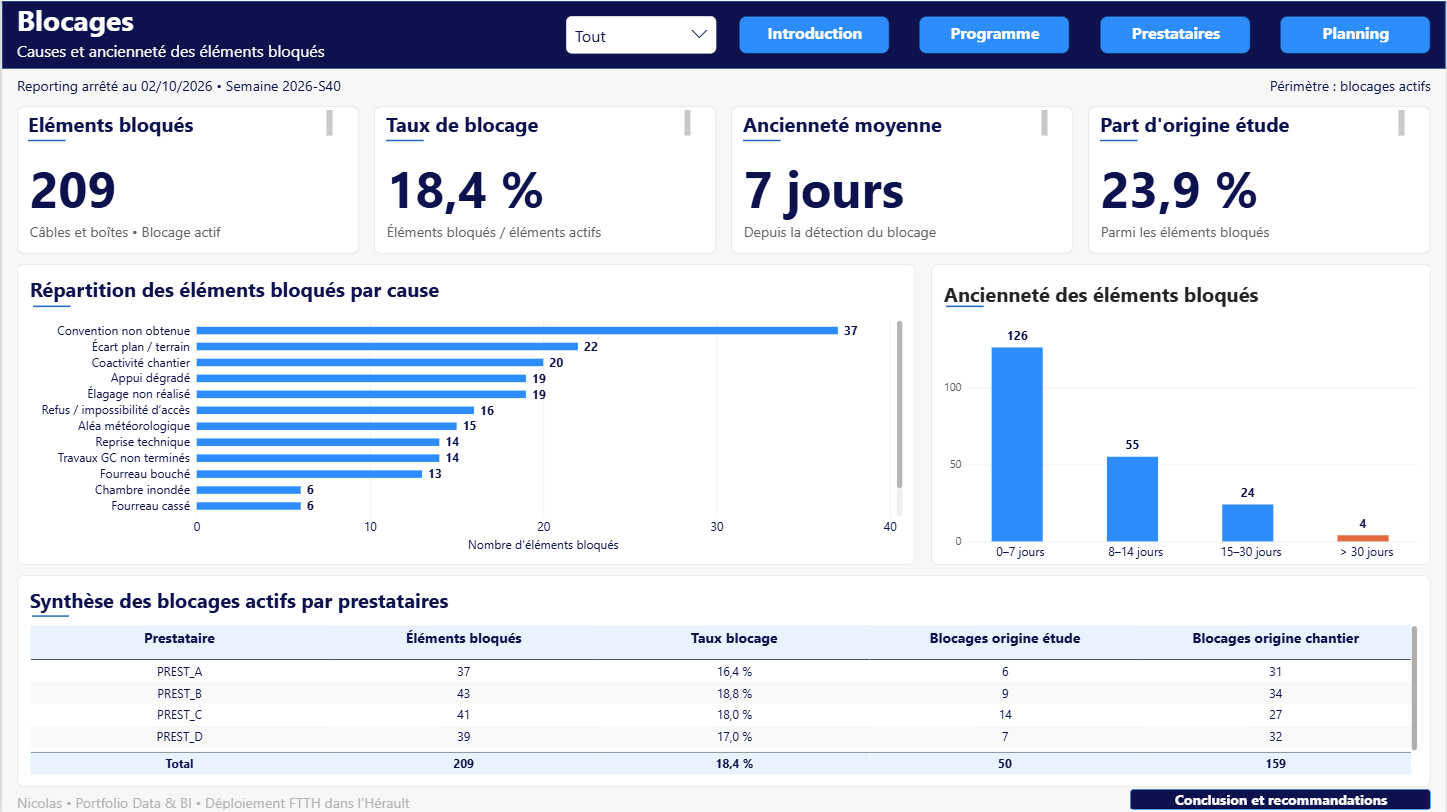

What the dashboard file says about the page in this screenshot:
{"tool":"powerbi","page":{"name":"Blocages","canvas":[1920,1080],"ordinal":4},"visuals":[{"type":"shape","box":[0,0,1920.1,90.5],"z":0},{"type":"textbox","title":"Blocages","box":[20,0,1880,90],"z":1000},{"type":"textbox","title":"Introduction","box":[980,20,200,50],"z":2000},{"type":"textbox","title":"Programme","box":[1220,20,200,50],"z":3000},{"type":"textbox","title":"Prestataires","box":[1460,20,200,50],"z":4000},{"type":"textbox","title":"Planning","box":[1700,19.9,200,50],"z":5000},{"type":"slicer","title":"Pestataires","fields":{"Values":["dim_prestataire.prestataire_id"]},"box":[750,20,200,50],"z":6000},{"type":"textbox","box":[20,100,500,30],"z":7000},{"type":"textbox","box":[1400,100,500,30],"z":8000},{"type":"cardVisual","title":"EL prévus","fields":{"Data":["Mesures.Éléments bloqués"]},"box":[20,140,455,197.3],"z":9000},{"type":"cardVisual","title":"EL prévus","fields":{"Data":["Mesures.Taux blocage"]},"box":[495,140,455,197.3],"z":10000},{"type":"cardVisual","title":"EL prévus","fields":{"Data":["Mesures.Ancienneté moyenne blocages"]},"box":[970,140,455,197.3],"z":11000},{"type":"cardVisual","title":"EL prévus","fields":{"Data":["Mesures.Part origine étude"]},"box":[1445,140,455,197.3],"z":12000},{"type":"clusteredBarChart","title":"Répartition des éléments bloqués par cause","fields":{"Category":["v_elements.cause_blocage"],"Y":["Mesures.Éléments bloqués"]},"box":[20,350,1195,400],"z":13000},{"type":"clusteredColumnChart","title":"Ancienneté des éléments bloqués","fields":{"Category":["v_elements.Tranche ancienneté"],"Y":["Mesures.Éléments bloqués"]},"box":[1236,350,665,400],"z":14000},{"type":"tableEx","title":"Synthèse des blocages actifs par prestataires","fields":{"Values":["dim_prestataire.prestataire_id","Mesures.Éléments bloqués","Mesures.Taux blocage","Mesures.Blocages origine étude","Mesures.Blocages origine chantier"]},"box":[20,763,1880,282],"z":15000},{"type":"textbox","box":[35,145,405,35],"z":16000},{"type":"textbox","box":[510.4,145,405,35],"z":17000},{"type":"textbox","box":[985,145,405,35],"z":18000},{"type":"textbox","box":[1460,145,405,35],"z":19000},{"type":"shape","box":[35,180,50,12],"z":20000},{"type":"shape","box":[510.4,180,50,12],"z":21000},{"type":"shape","box":[985,180,50,12],"z":22000},{"type":"shape","box":[1460,180,50,12],"z":23000},{"type":"shape","box":[1256,400,50.3,11.6],"z":24000},{"type":"shape","box":[40.6,400,50.3,11.6],"z":25000},{"type":"shape","box":[40,813,48.9,10.9],"z":26000},{"type":"textbox","title":"Nicolas • Portfolio Data & BI • Déploiement FTTH dans l''Hérault","box":[20,1053,850,23],"z":27000},{"type":"actionButton","box":[980,20,200,50],"z":28000},{"type":"actionButton","box":[1220,20,200,50],"z":29000},{"type":"actionButton","box":[1460,20,200,50],"z":30000},{"type":"actionButton","box":[1700,20,200,50],"z":31000},{"type":"textbox","title":"Conclusion et recommandations","box":[1500,1048,400,29],"z":32000},{"type":"actionButton","box":[1500.2,1048,400,29],"z":33000}]}

Visuals, with their boxes in screenshot pixels (x1, y1, x2, y2), scaled from the page's 1920x1080 canvas onto the 1447x812 screenshot:
shape: box=[0, 0, 1446, 68]
"Blocages" textbox: box=[15, 0, 1432, 68]
"Introduction" textbox: box=[739, 15, 889, 53]
"Programme" textbox: box=[919, 15, 1070, 53]
"Prestataires" textbox: box=[1100, 15, 1251, 53]
"Planning" textbox: box=[1281, 15, 1432, 53]
"Pestataires" slicer: box=[565, 15, 716, 53]
textbox: box=[15, 75, 392, 98]
textbox: box=[1055, 75, 1432, 98]
"EL prévus" cardVisual: box=[15, 105, 358, 254]
"EL prévus" cardVisual: box=[373, 105, 716, 254]
"EL prévus" cardVisual: box=[731, 105, 1074, 254]
"EL prévus" cardVisual: box=[1089, 105, 1432, 254]
"Répartition des éléments bloqués par cause" clusteredBarChart: box=[15, 263, 916, 564]
"Ancienneté des éléments bloqués" clusteredColumnChart: box=[932, 263, 1433, 564]
"Synthèse des blocages actifs par prestataires" tableEx: box=[15, 574, 1432, 786]
textbox: box=[26, 109, 332, 135]
textbox: box=[385, 109, 690, 135]
textbox: box=[742, 109, 1048, 135]
textbox: box=[1100, 109, 1406, 135]
shape: box=[26, 135, 64, 144]
shape: box=[385, 135, 422, 144]
shape: box=[742, 135, 780, 144]
shape: box=[1100, 135, 1138, 144]
shape: box=[947, 301, 984, 309]
shape: box=[31, 301, 69, 309]
shape: box=[30, 611, 67, 619]
"Nicolas • Portfolio Data & BI • Déploiement FTTH dans l''Hérault" textbox: box=[15, 792, 656, 809]
actionButton: box=[739, 15, 889, 53]
actionButton: box=[919, 15, 1070, 53]
actionButton: box=[1100, 15, 1251, 53]
actionButton: box=[1281, 15, 1432, 53]
"Conclusion et recommandations" textbox: box=[1130, 788, 1432, 810]
actionButton: box=[1131, 788, 1432, 810]
